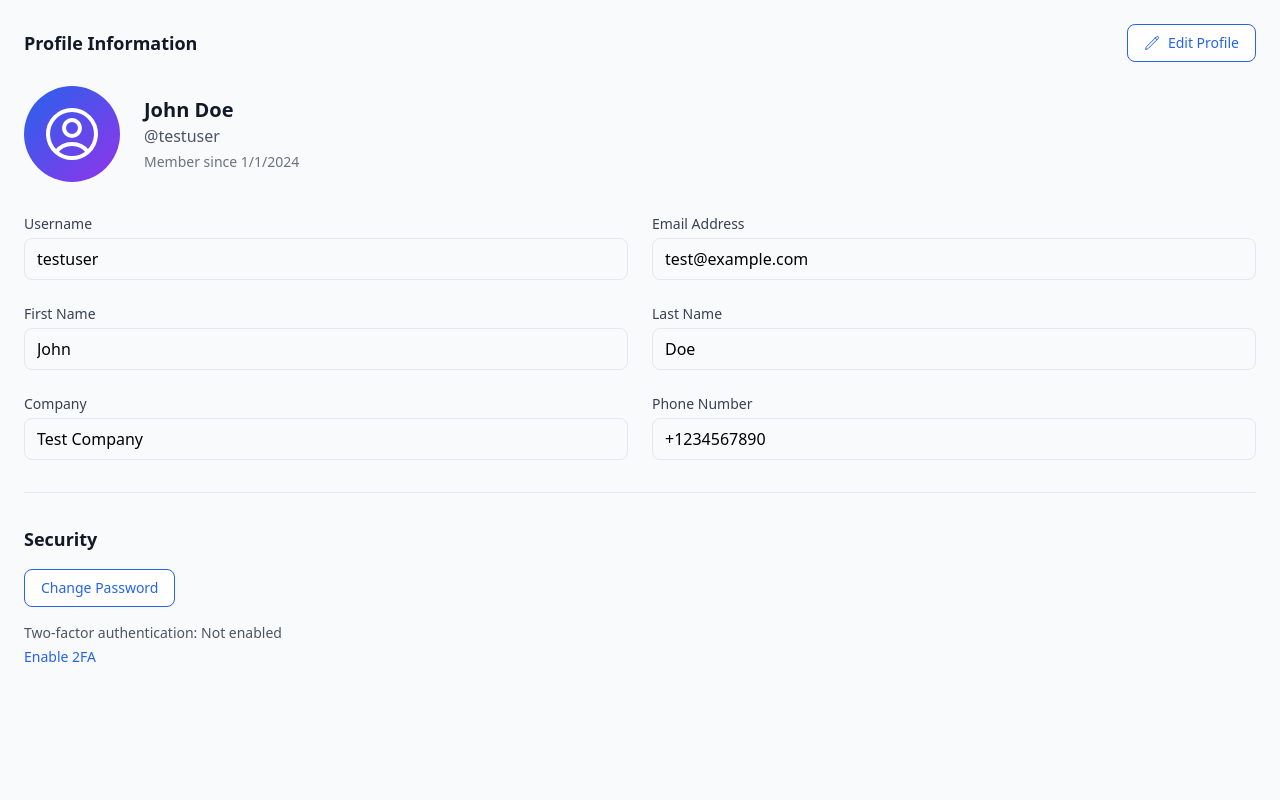
Test case: ProfileSection Component › Edit Mode › should cancel edit mode
The width and height of the screenshot is (1280, 800).
Click the button "Edit Profile": (1191, 43) [1127, 24, 1256, 62]
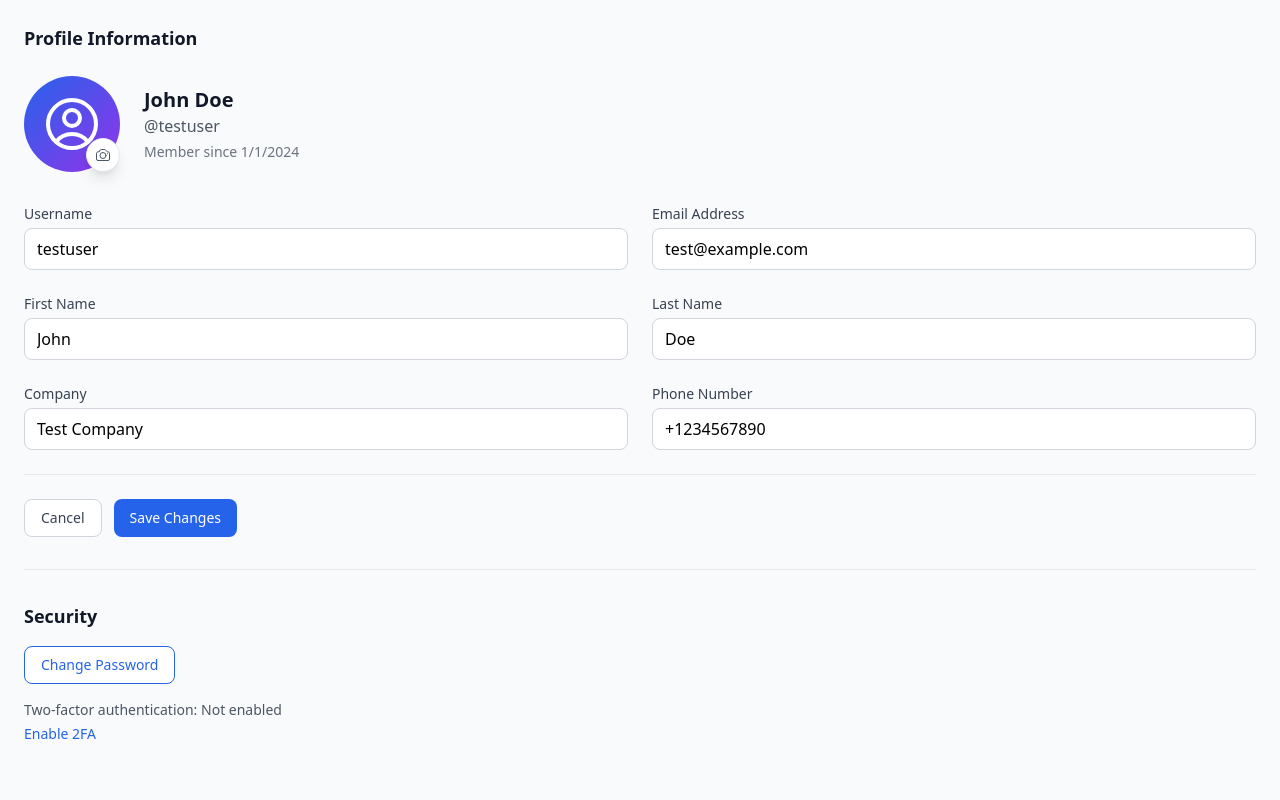
// Make some changes
Replace the text in the field showing "testuser" below "Username" with "newusername": (326, 249) [24, 228, 628, 270]
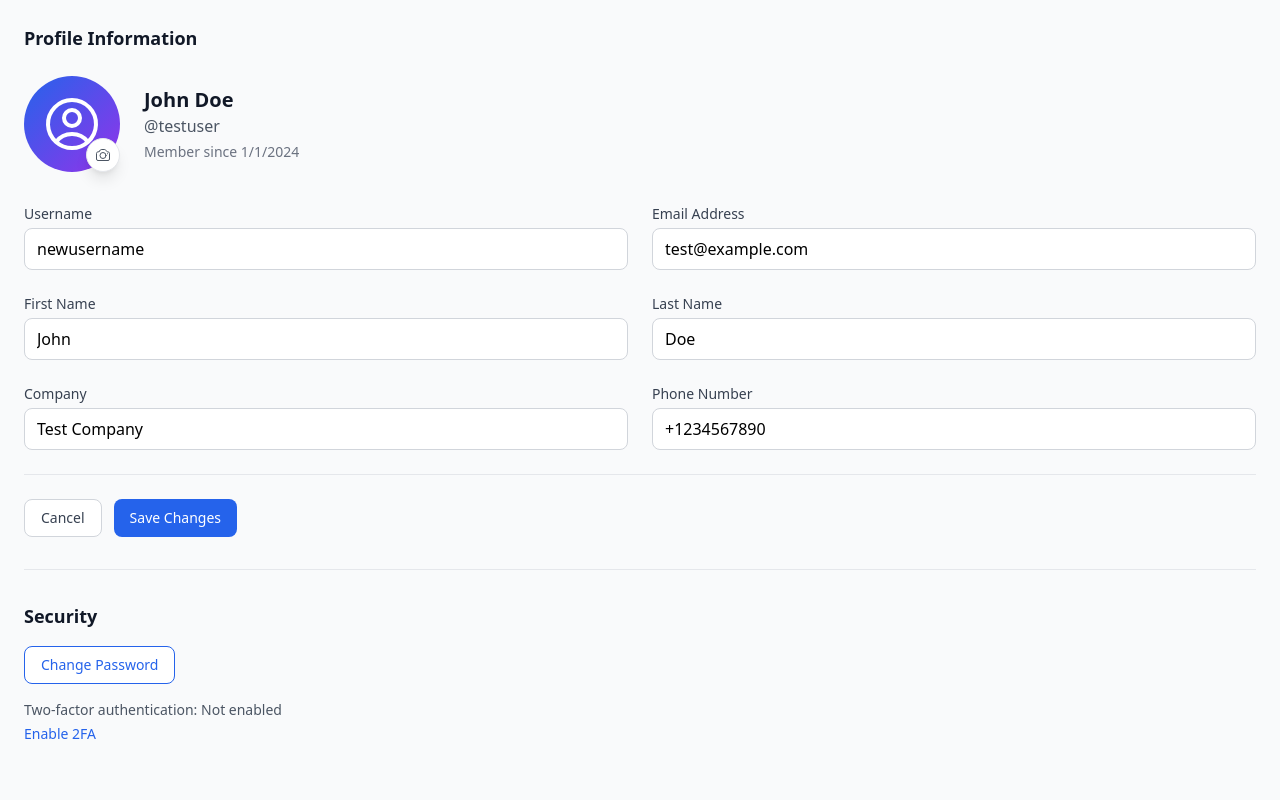
Click the button "Cancel": (63, 518) [24, 499, 102, 537]
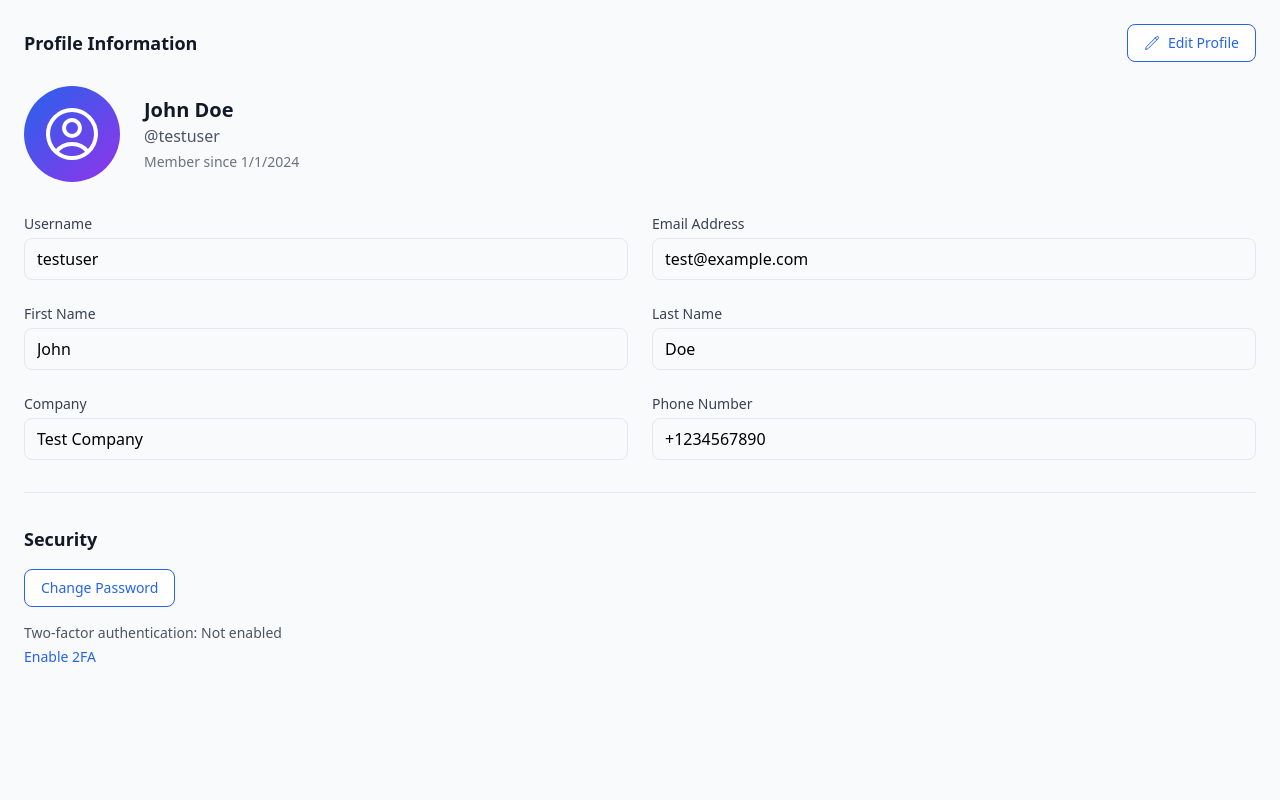
Expected: the button "Edit Profile" is shown, [1127, 24, 1256, 62]
Expected: the field showing "testuser" below "Username" is shown, [24, 238, 628, 280]
